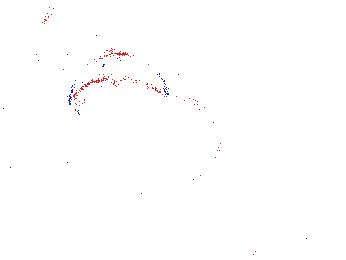moon jellyfish: (118, 94, 220, 188), (24, 1, 159, 65), (69, 54, 167, 119)
